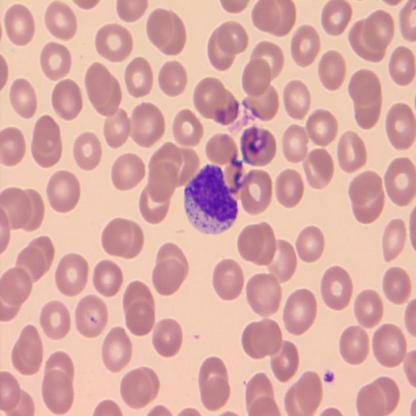Metamyelocyte: (180, 160, 240, 239)
